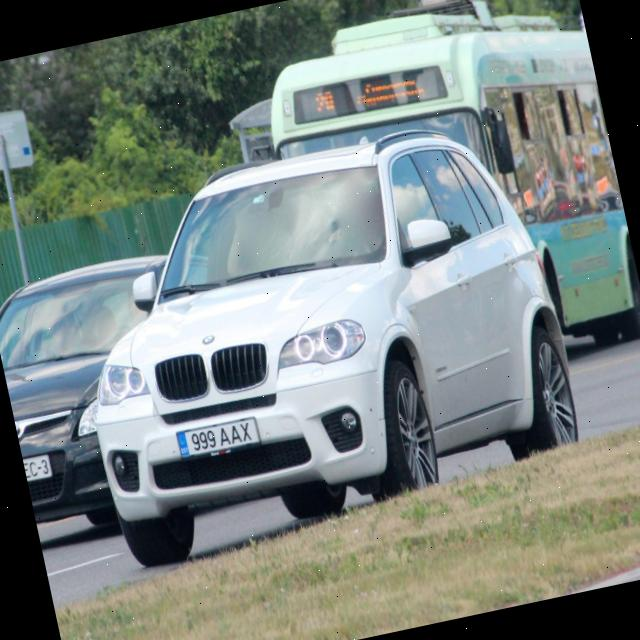License-plate: (176, 412, 261, 462)
